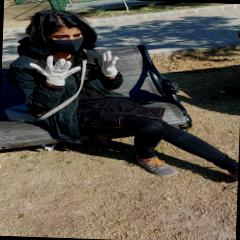gloved: (30, 54, 81, 88), (102, 50, 119, 79)
